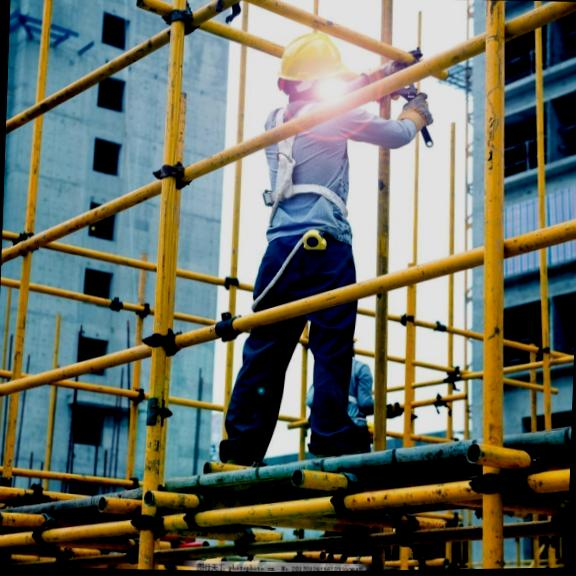no_safety_vest: (252, 97, 356, 242)
